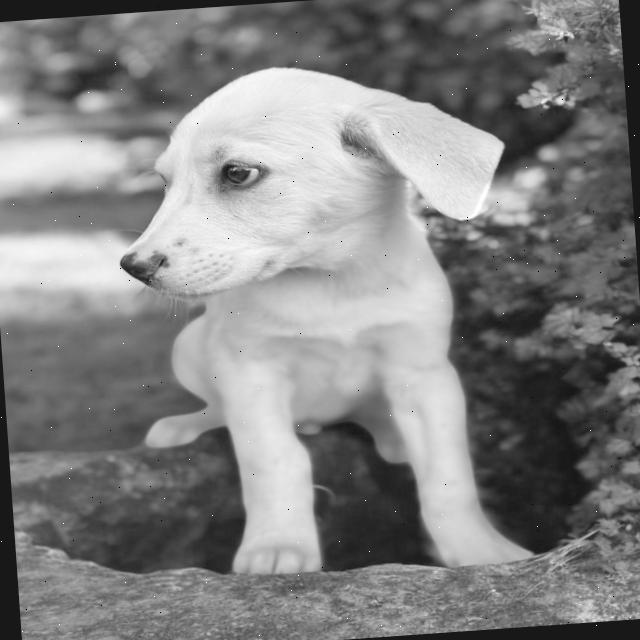labrador_retriever_dog: (99, 40, 532, 312)
